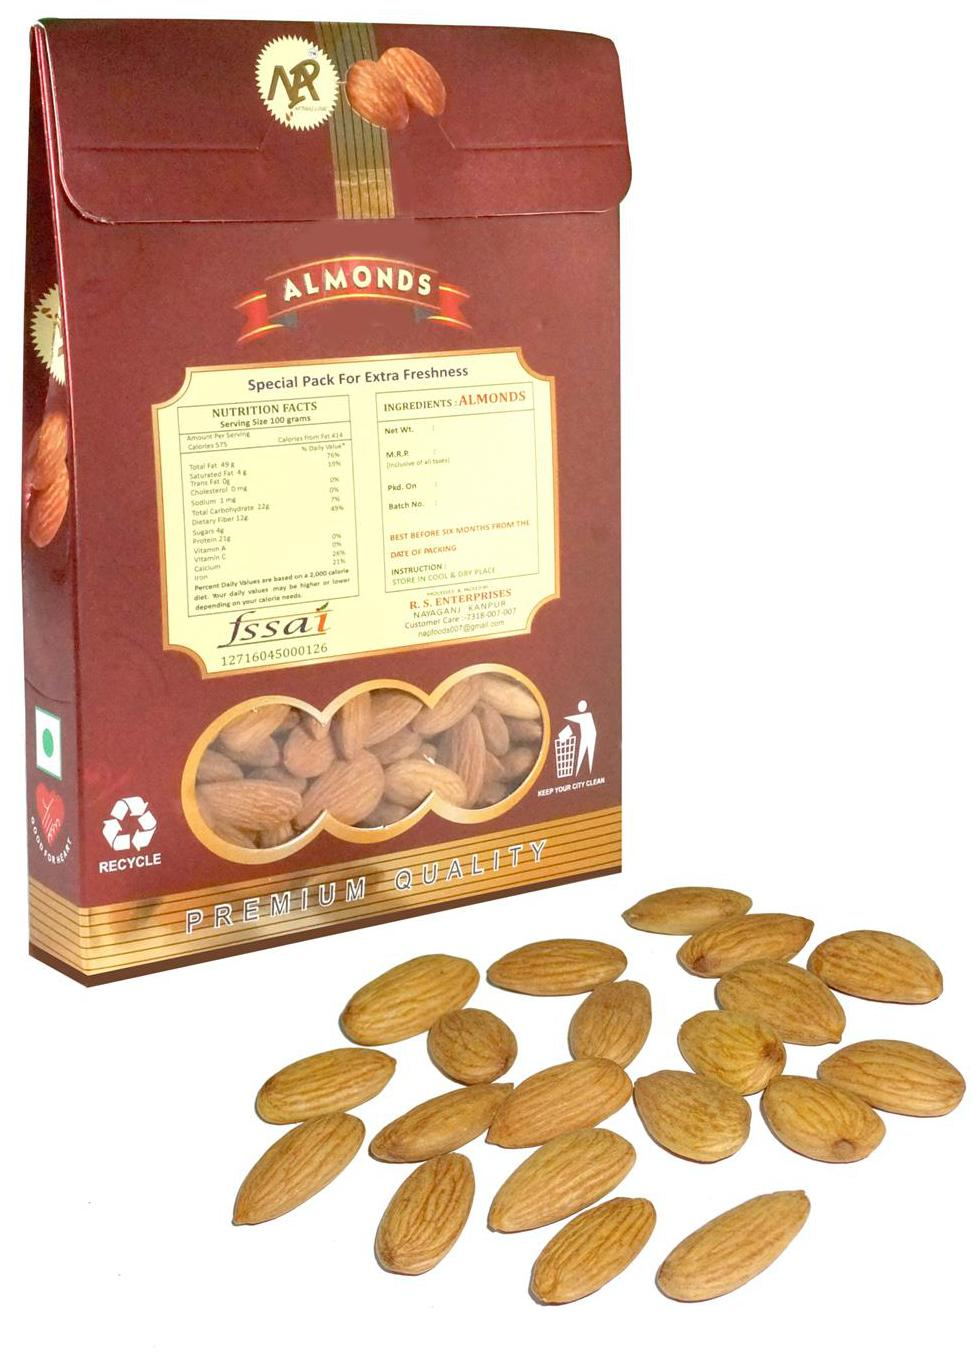fssai: (212, 604, 331, 646)
